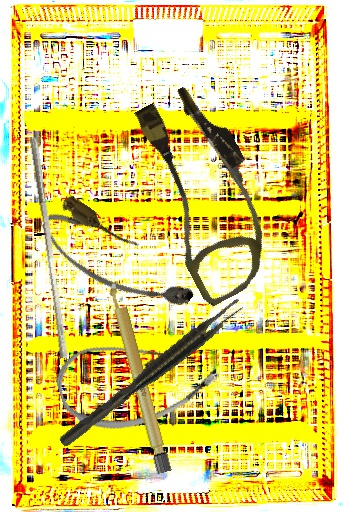Cannula: (111, 77, 299, 309), (33, 191, 201, 332), (49, 313, 225, 445)
Pusher: (20, 136, 77, 359)
Scalpel Handle: (106, 279, 173, 475)
Tissue Forceps: (53, 295, 249, 449)
